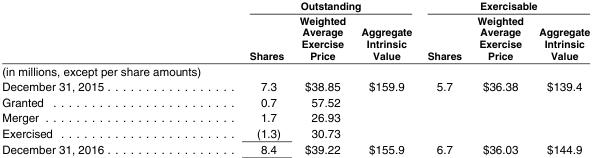table: (1, 0, 589, 155)
table column: (1, 0, 224, 155), (224, 0, 290, 155), (352, 0, 418, 155), (290, 0, 352, 155), (468, 0, 530, 155), (530, 0, 589, 155), (418, 0, 468, 155)
table column header: (1, 0, 589, 79)
table row: (1, 13, 589, 79), (1, 94, 589, 110), (1, 125, 589, 141), (1, 79, 589, 94), (1, 110, 589, 125), (1, 141, 589, 155), (1, 0, 589, 13)
table spanning cell: (1, 0, 224, 79), (224, 0, 418, 13), (418, 0, 589, 13)
